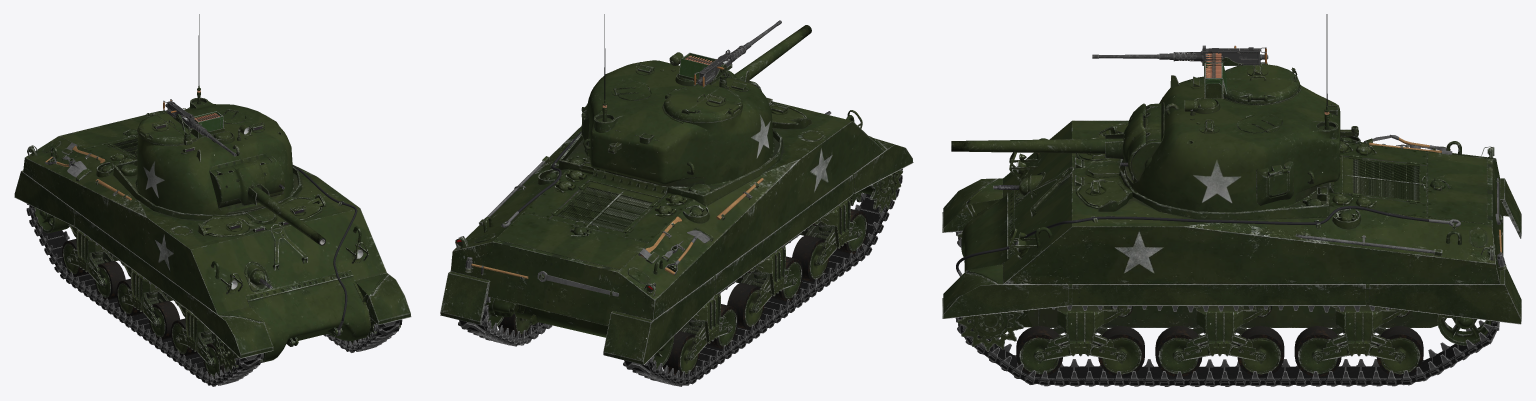
The model's file is sherman.glb.
3 views of the same model, side by side, from view 1: azimuth 30°, elevation 25°; view 2: azimuth 150°, elevation 25°; view 3: azimuth 270°, elevation 25° (orthographic). The views are drawn at different scales.
Parts seen in each view (by area): view 1: Cube.535_111, Cylinder.006_186, Cylinder.793_53, Cylinder.894_83, Cube.235_181, Cube.230_102, Cube.227_99, Plane.075_11, Cylinder.355_37, Cube.231_103, Cube.238_132, Cylinder.356_38 (+11 smaller); view 2: Cube.535_111, Cylinder.006_186, Cylinder.793_53, Cube.235_181, Cube.231_103, Cube.238_132, Cube.227_99, Cylinder.355_37, Plane.167_125, Cube.239_133, Circle.013_122, Cylinder.356_38 (+10 smaller); view 3: Cube.535_111, Cylinder.793_53, Cylinder.006_186, Cube.235_181, Cube.227_99, Cube.231_103, Cube.230_102, Cube.238_132, Cylinder.894_83, Cylinder.355_37, Cylinder.356_38, Plane.167_125 (+17 smaller).
Boxes of the visible parts, x1,y1,x2,y2 form: Cube.535_111: [23, 110, 386, 314]; Cylinder.006_186: [137, 14, 293, 215]; Cylinder.793_53: [62, 223, 362, 378]; Cylinder.894_83: [246, 271, 369, 362]; Cube.235_181: [26, 204, 402, 386]; Cube.230_102: [191, 274, 411, 358]; Cube.227_99: [75, 210, 190, 310]; Plane.075_11: [215, 161, 284, 205]; Cylinder.355_37: [137, 112, 198, 145]; Cube.231_103: [14, 170, 74, 225]; Cube.238_132: [60, 111, 166, 148]; Cylinder.356_38: [163, 99, 236, 156]; Cube.535_111: [450, 102, 884, 337]; Cylinder.006_186: [586, 14, 773, 186]; Cylinder.793_53: [498, 197, 867, 376]; Cube.235_181: [458, 168, 902, 386]; Cube.231_103: [440, 271, 714, 364]; Cube.238_132: [495, 212, 647, 269]; Cube.227_99: [715, 175, 852, 294]; Cylinder.355_37: [663, 64, 743, 122]; Plane.167_125: [557, 187, 651, 232]; Cube.239_133: [523, 168, 693, 242]; Circle.013_122: [558, 129, 782, 205]; Cylinder.356_38: [679, 20, 781, 87]; Cube.535_111: [1003, 120, 1503, 327]; Cylinder.793_53: [1016, 305, 1423, 376]; Cylinder.006_186: [1125, 14, 1340, 211]; Cube.235_181: [955, 231, 1499, 386]; Cube.227_99: [1072, 284, 1365, 305]; Cube.231_103: [1369, 178, 1521, 324]; Cube.230_102: [942, 178, 1068, 318]; Cube.238_132: [1427, 152, 1487, 224]; Cylinder.894_83: [961, 190, 1032, 327]; Cylinder.355_37: [1221, 57, 1300, 104]; Cylinder.356_38: [1092, 45, 1268, 98]; Plane.167_125: [1353, 159, 1419, 200].
Size of the model in its own units: 1.31 by 1.93 by 3.
9 materials, 9 textured.
